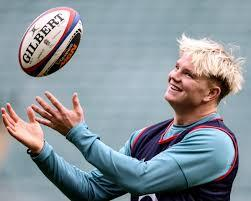ballon_rugby: (16, 5, 83, 79)
